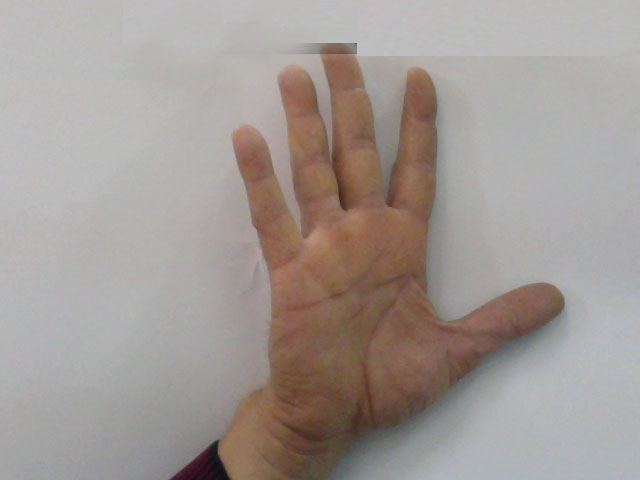hand: (214, 46, 575, 422)
